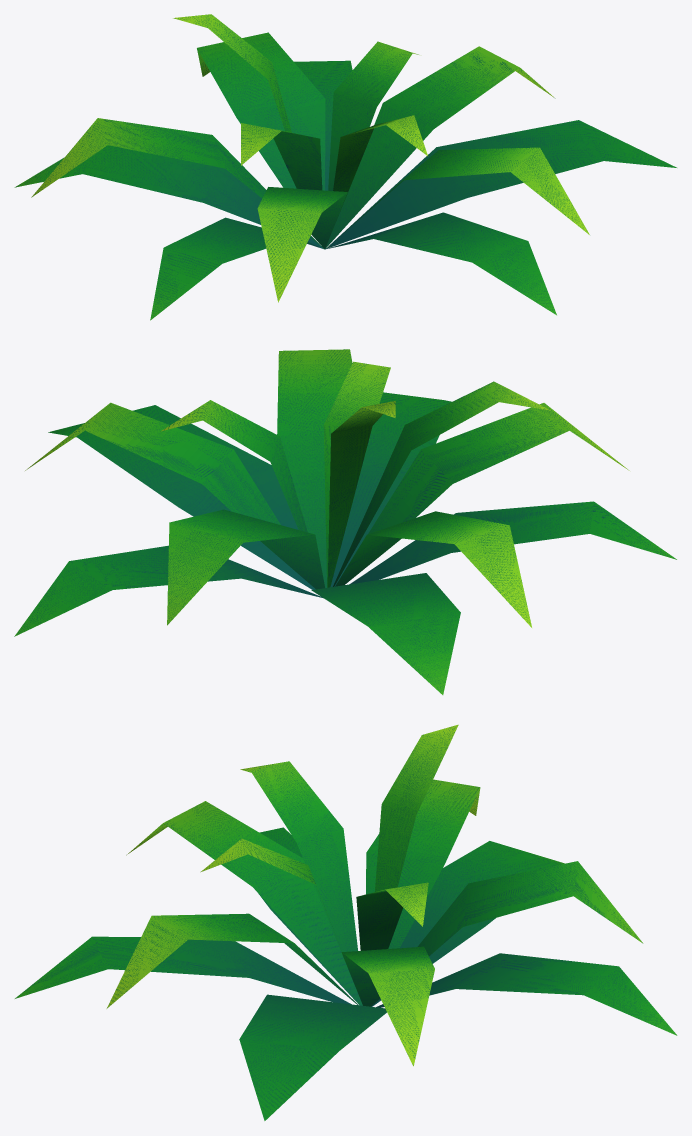
Rendered from Bush_2A.fbx.
3 renders of one model, top to bottom at view 1: azimuth 30°, elevation 25°; view 2: azimuth 150°, elevation 25°; view 3: azimuth 270°, elevation 25°, orthographic. The views are drawn at different scales.
Parts seen in each view (by area): view 1: Bush_2A; view 2: Bush_2A; view 3: Bush_2A.
Boxes of the visible parts, bbox=[...] form: Bush_2A: bbox=[14, 14, 676, 320]; Bush_2A: bbox=[14, 349, 676, 694]; Bush_2A: bbox=[15, 724, 677, 1120].
Size of the model in its own units: 1.14 by 0.4442 by 1.15.
